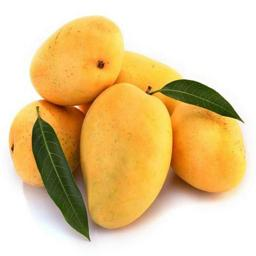Mango Fresh: (76, 62, 195, 239), (163, 77, 256, 216), (21, 3, 138, 113), (3, 93, 102, 211)
